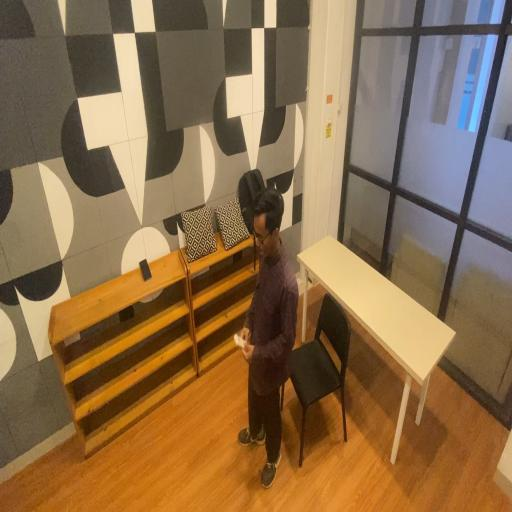bantal: (179, 203, 217, 262), (214, 198, 249, 256)
hp: (138, 254, 152, 282)
kursi: (290, 287, 354, 460)
lemari: (46, 268, 196, 459)
remote AC: (234, 330, 252, 353)
tas ransel: (236, 163, 265, 231)
